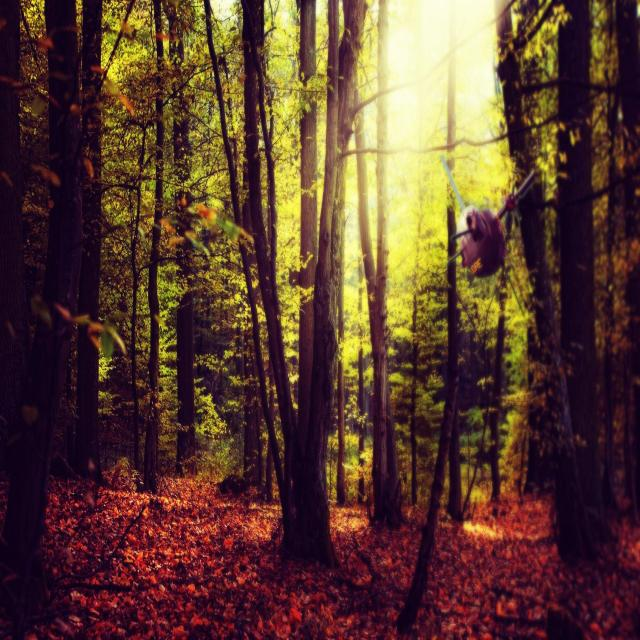airplane: (440, 154, 536, 282)
